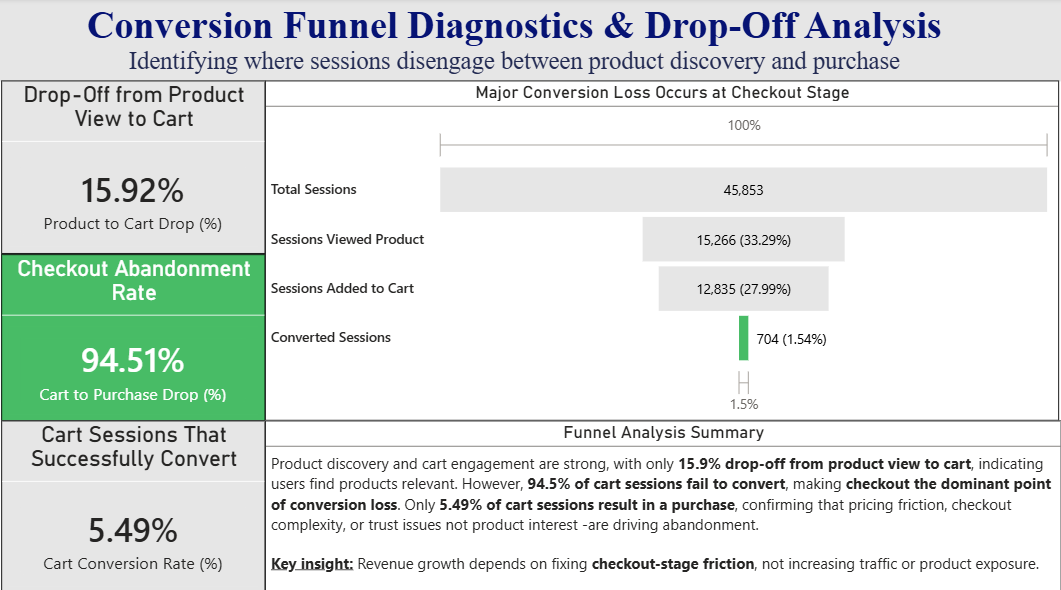

Layout of this report page (visuals, bound fields, positions):
{"tool":"powerbi","page":{"name":"Funnel Analysis","canvas":[1280,720],"ordinal":1},"visuals":[{"type":"cardVisual","title":"Drop-Off from Product View to Cart","fields":{"Data":["Marketing_Session_Analysis.Product to Cart Drop (%)"]},"box":[138.2,80.9,258.5,169.2],"z":0,"group":"g1"},{"type":"textbox","box":[0,0,1280.3,81.3],"z":1000},{"type":"cardVisual","title":"Checkout Abandonment Rate","fields":{"Data":["Marketing_Session_Analysis.Cart to Purchase Drop (%)"]},"box":[138.2,250.1,258.5,163.1],"z":1000,"group":"g1"},{"type":"cardVisual","title":"Cart Sessions That Successfully Convert","fields":{"Data":["Marketing_Session_Analysis.Cart Conversion Rate (%)"]},"box":[138.2,413.2,258.5,169.2],"z":2000,"group":"g1"},{"type":"funnel","title":"Major Conversion Loss Occurs at Checkout Stage","fields":{"Y":["Marketing_Session_Analysis.Total Sessions","Marketing_Session_Analysis.Sessions Viewed Product","Marketing_Session_Analysis.Sessions Added to Cart","Marketing_Session_Analysis.Converted Sessions"]},"box":[395.9,80.7,776.5,332.6],"z":3000,"group":"g1"},{"type":"textbox","box":[395.7,413.9,776,168],"z":4000,"group":"g1"},{"type":"textbox","title":"Funnel Analysis Summary","box":[396,413.7,778.9,167.5],"z":5000,"group":"g1"},{"type":"group","id":"g1","title":"Group 1","box":[138.2,80.7,1036.7,501.7],"z":5003}]}

Visuals, with their boxes in screenshot pixels (x1, y1, x2, y2), scaled from the page's 1280x720 canvas onto the 1061x590 screenshot:
"Drop-Off from Product View to Cart" cardVisual: bbox(115, 66, 329, 205)
textbox: bbox(0, 0, 1060, 67)
"Checkout Abandonment Rate" cardVisual: bbox(115, 205, 329, 339)
"Cart Sessions That Successfully Convert" cardVisual: bbox(115, 339, 329, 477)
"Major Conversion Loss Occurs at Checkout Stage" funnel: bbox(328, 66, 972, 339)
textbox: bbox(328, 339, 971, 477)
"Funnel Analysis Summary" textbox: bbox(328, 339, 974, 476)
"Group 1" group: bbox(115, 66, 974, 477)
